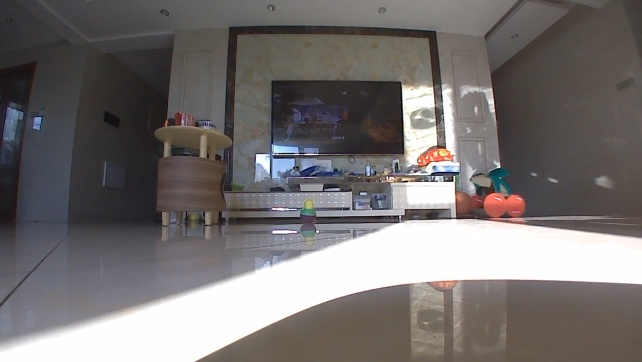TV_stand: (220, 175, 461, 224)
